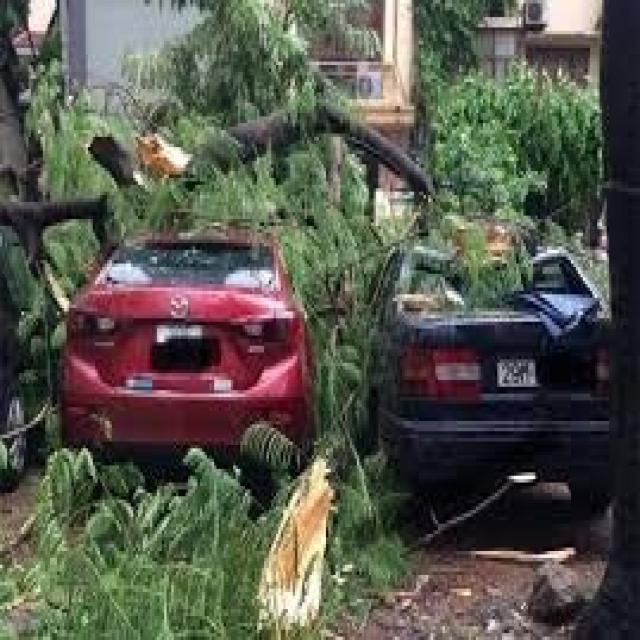fallen_object: (6, 66, 535, 260)
